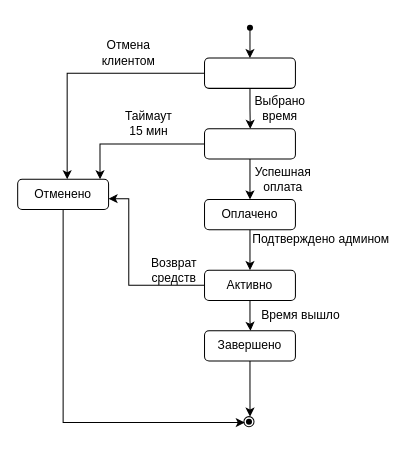
The diagram is 420 pixels wide and 449 high, and some of its shapes have lost their labels. Here are the shapes that lost their labels. From the top down, the box of each, then its label:
(204, 57, 295, 88): Новое
(204, 128, 295, 159): Ожидает оплаты
